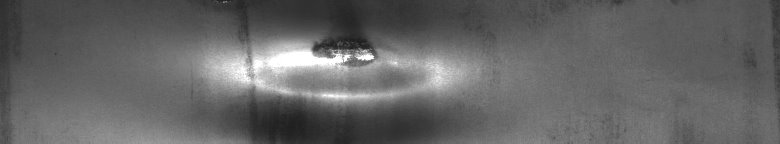ke: (239, 28, 408, 111)
